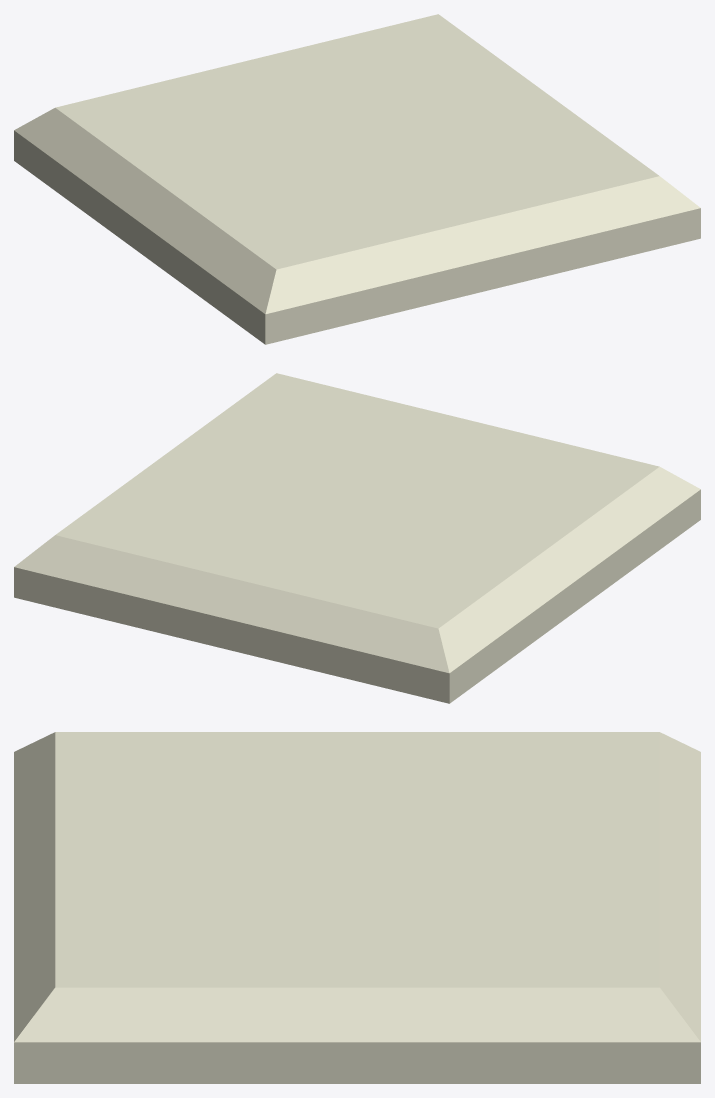
The model's file is Pav_1.fbx.
The picture shows the model from 3 angles, top to bottom: view 1: azimuth 30°, elevation 25°; view 2: azimuth 150°, elevation 25°; view 3: azimuth 270°, elevation 25°; orthographic projection. The views are drawn at different scales.
Visible parts, largest first — view 1: Pav_1; view 2: Pav_1; view 3: Pav_1.
Boxes of the visible parts, box(x1,y1,x2,y2) form: Pav_1: box(14, 14, 700, 344); Pav_1: box(14, 373, 700, 703); Pav_1: box(14, 732, 700, 1083).
Size of the model in its own units: 1 by 0.1269 by 1.
